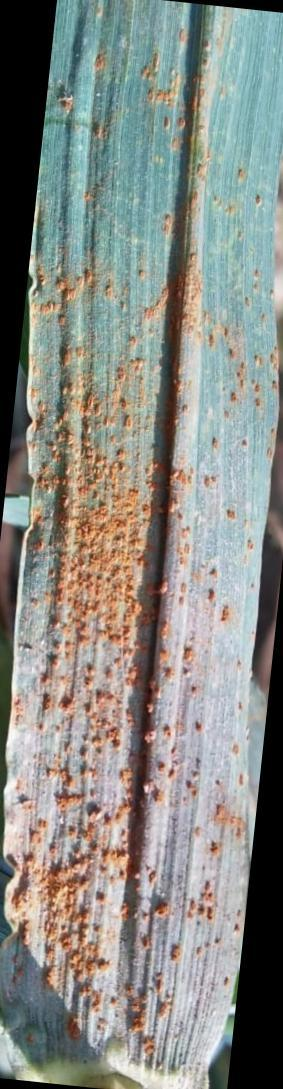Wheat: (24, 211, 150, 815), (167, 176, 274, 543), (18, 826, 136, 1061), (173, 559, 246, 911), (57, 41, 233, 159)
